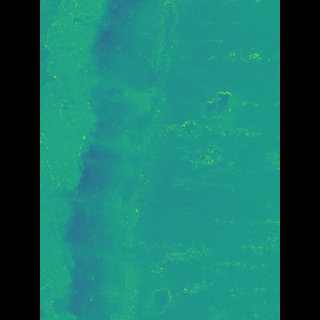Loch: (70, 0, 173, 320)
